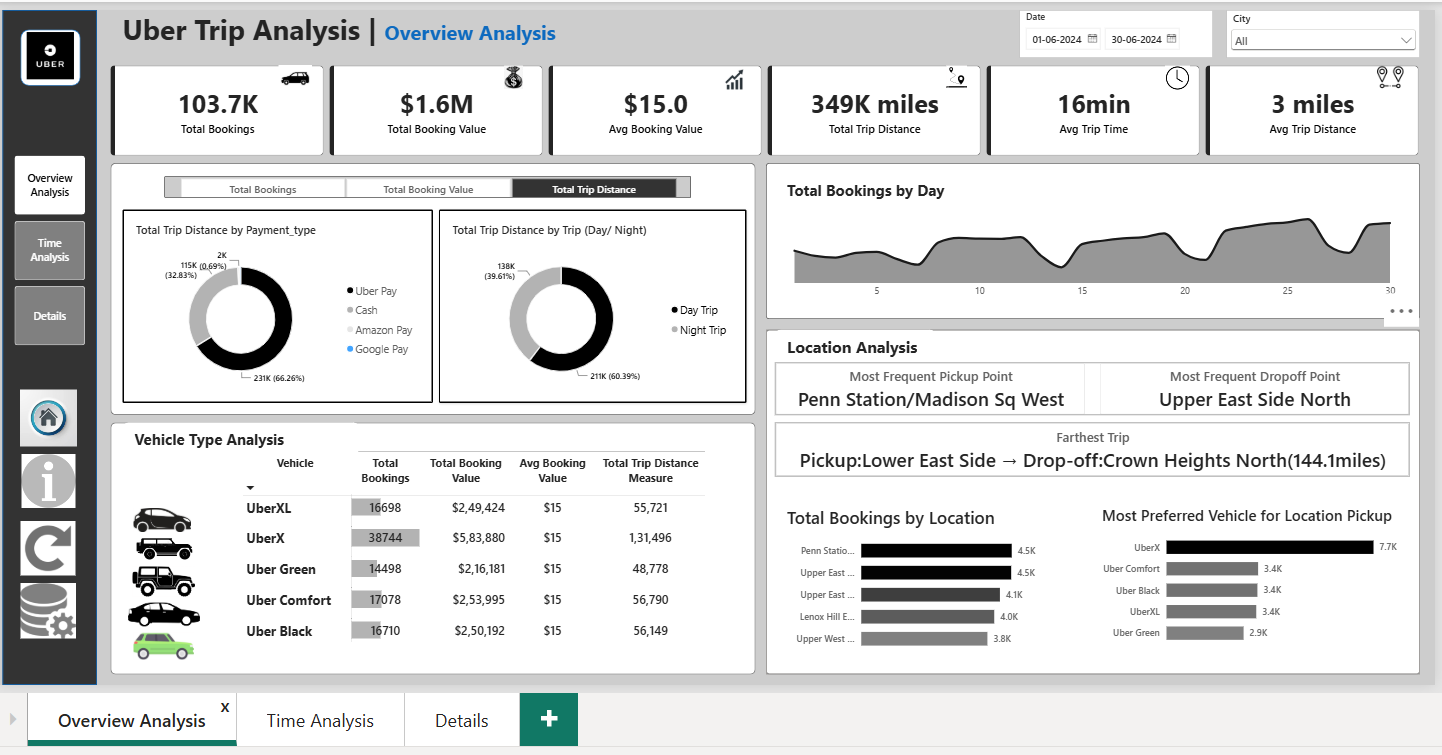

Layout of this report page (visuals, bound fields, positions):
{"tool":"powerbi","page":{"name":"Overview Analysis","canvas":[1915,900],"ordinal":0},"visuals":[{"type":"shape","box":[150,204,860,336],"z":0},{"type":"shape","box":[6,0,126,900],"z":1000},{"type":"textbox","box":[166,0,592,80],"z":2000},{"type":"cardVisual","fields":{"Data":["Trip Details.Total Bookings","Trip Details.Total Booking Amount","Trip Details.Avg Booking Amount","Trip Details.Total Trip Distance","Trip Details.Avg Trip Time","Trip Details.Avg Trip Distance"]},"box":[150,74,1746,120],"z":3000},{"type":"image","box":[662,74,50.8,31.3],"z":4000},{"type":"image","box":[1250,74,56.7,29.3],"z":5000},{"type":"image","box":[1830,72,52.8,35.2],"z":6000},{"type":"image","box":[1548,74,48.8,33.2],"z":7000},{"type":"image","box":[966,74,31.3,37.1],"z":8000},{"type":"slicer","fields":{"Values":["Dynamic Measure.Dynamic Measure"]},"box":[222,222,702,28],"z":9000},{"type":"image","box":[374,68,44.9,44.9],"z":10000},{"type":"donutChart","fields":{"Category":["Trip Details.Payment_type"],"Y":["Trip Details.Total Trip Distance Measure"]},"box":[166,266,414,258],"z":11000},{"type":"donutChart","fields":{"Series":["Trip Details.Trip Type (Day/ Night)"],"Y":["Trip Details.Total Trip Distance Measure"]},"box":[588,266,410,258],"z":12000},{"type":"shape","box":[150,550,860,336],"z":13000},{"type":"pivotTable","fields":{"Rows":["Trip Details.Vehicle"],"Values":["Trip Details.Total Bookings","Trip Details.Total Booking Value","Trip Details.Avg Booking Value","Trip Details.Total Trip Distance Measure"]},"box":[310,574,688,294],"z":14000},{"type":"image","box":[128,664,182,32],"z":15000},{"type":"image","box":[166,782,110,48],"z":16000},{"type":"image","box":[166,830,110,36],"z":17000},{"type":"image","box":[166,742,110,40],"z":18000},{"type":"image","box":[184,696,76,46],"z":19000},{"type":"cardVisual","fields":{"Data":["Trip Details.Title for Grid"]},"box":[166,550,316,42],"z":20000},{"type":"shape","box":[1024,204,872,208],"z":21000},{"type":"areaChart","title":"Total Bookings by Day","fields":{"Category":["Calendar Table.Date.Variation.Date Hierarchy.Day"],"Y":["Trip Details.Total Bookings"]},"box":[1036,212,846,192],"z":22000},{"type":"shape","box":[1024,426,872,460],"z":23000},{"type":"cardVisual","fields":{"Data":["Trip Details.Most Frequent Pickup Point","Trip Details.Most Frequent Dropoff Point"]},"box":[1036,470,846,70],"z":24000},{"type":"cardVisual","fields":{"Data":["Trip Details.Farthest Trip"]},"box":[1036,550,846,72],"z":25000},{"type":"barChart","fields":{"Category":["Location Table.Location"],"Y":["Trip Details.Total Bookings"]},"box":[1036,646,400,230],"z":26000},{"type":"barChart","title":"Most Preferred Vehicle for Location Pickup","fields":{"Category":["Trip Details.Vehicle"],"Y":["CountNonNull(Trip Details.PULocationID)"]},"box":[1456,646,426,222],"z":27000},{"type":"cardVisual","fields":{"Data":["Trip Details.Title for Location"]},"box":[1036,426,214,42],"z":28000},{"type":"slicer","fields":{"Values":["Calendar Table.Date"]},"box":[1362,0,258,64],"z":29000},{"type":"slicer","fields":{"Values":["Location Table.City"]},"box":[1638,0,258,64],"z":30000},{"type":"shape","box":[30,26,80,75],"z":31000,"group":"g1"},{"type":"pageNavigator","box":[22,194,94,254],"z":31000},{"type":"group","id":"g1","title":"Group 1","box":[26,26,87,75],"z":32000},{"type":"image","box":[26,26,87,70],"z":32000,"group":"g1"},{"type":"image","box":[20,506,94,76],"z":33000},{"type":"image","box":[24,592,86,72],"z":34000},{"type":"image","box":[30,678,73,79],"z":35000},{"type":"image","box":[30,754,74,94],"z":36000}]}

Visuals, with their boxes on the page's 1915x900 design canvas (x1, y1, x2, y2). These are canvas units, not pixel positions in the 1442x755 screenshot, which may show the page scaled, cropped or inside an application window:
shape: BBox(150, 204, 1010, 540)
shape: BBox(6, 0, 132, 900)
textbox: BBox(166, 0, 758, 80)
cardVisual - Trip Details.Total Bookings x Trip Details.Total Booking Amount: BBox(150, 74, 1896, 194)
image: BBox(662, 74, 713, 105)
image: BBox(1250, 74, 1307, 103)
image: BBox(1830, 72, 1883, 107)
image: BBox(1548, 74, 1597, 107)
image: BBox(966, 74, 997, 111)
slicer - Dynamic Measure.Dynamic Measure: BBox(222, 222, 924, 250)
image: BBox(374, 68, 419, 113)
donutChart - Trip Details.Payment_type x Trip Details.Total Trip Distance Measure: BBox(166, 266, 580, 524)
donutChart - Trip Details.Trip Type (Day/ Night) x Trip Details.Total Trip Distance Measure: BBox(588, 266, 998, 524)
shape: BBox(150, 550, 1010, 886)
pivotTable - Trip Details.Vehicle x Trip Details.Total Bookings: BBox(310, 574, 998, 868)
image: BBox(128, 664, 310, 696)
image: BBox(166, 782, 276, 830)
image: BBox(166, 830, 276, 866)
image: BBox(166, 742, 276, 782)
image: BBox(184, 696, 260, 742)
cardVisual - Trip Details.Title for Grid: BBox(166, 550, 482, 592)
shape: BBox(1024, 204, 1896, 412)
"Total Bookings by Day" areaChart: BBox(1036, 212, 1882, 404)
shape: BBox(1024, 426, 1896, 886)
cardVisual - Trip Details.Most Frequent Pickup Point x Trip Details.Most Frequent Dropoff Point: BBox(1036, 470, 1882, 540)
cardVisual - Trip Details.Farthest Trip: BBox(1036, 550, 1882, 622)
barChart - Location Table.Location x Trip Details.Total Bookings: BBox(1036, 646, 1436, 876)
"Most Preferred Vehicle for Location Pickup" barChart: BBox(1456, 646, 1882, 868)
cardVisual - Trip Details.Title for Location: BBox(1036, 426, 1250, 468)
slicer - Calendar Table.Date: BBox(1362, 0, 1620, 64)
slicer - Location Table.City: BBox(1638, 0, 1896, 64)
shape: BBox(30, 26, 110, 101)
pageNavigator: BBox(22, 194, 116, 448)
"Group 1" group: BBox(26, 26, 113, 101)
image: BBox(26, 26, 113, 96)
image: BBox(20, 506, 114, 582)
image: BBox(24, 592, 110, 664)
image: BBox(30, 678, 103, 757)
image: BBox(30, 754, 104, 848)
